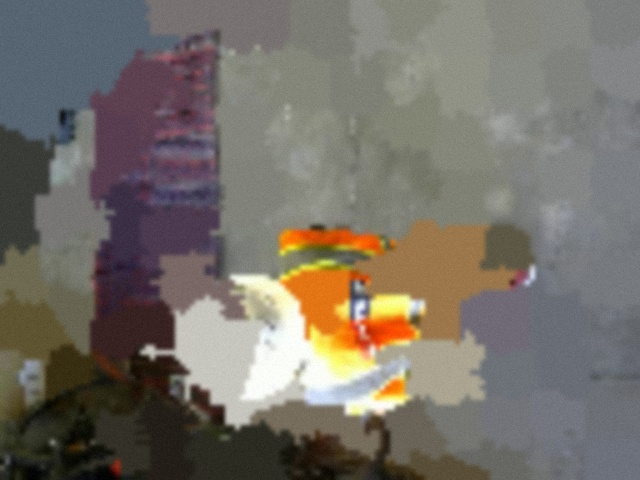eight: (229, 315, 277, 365)
